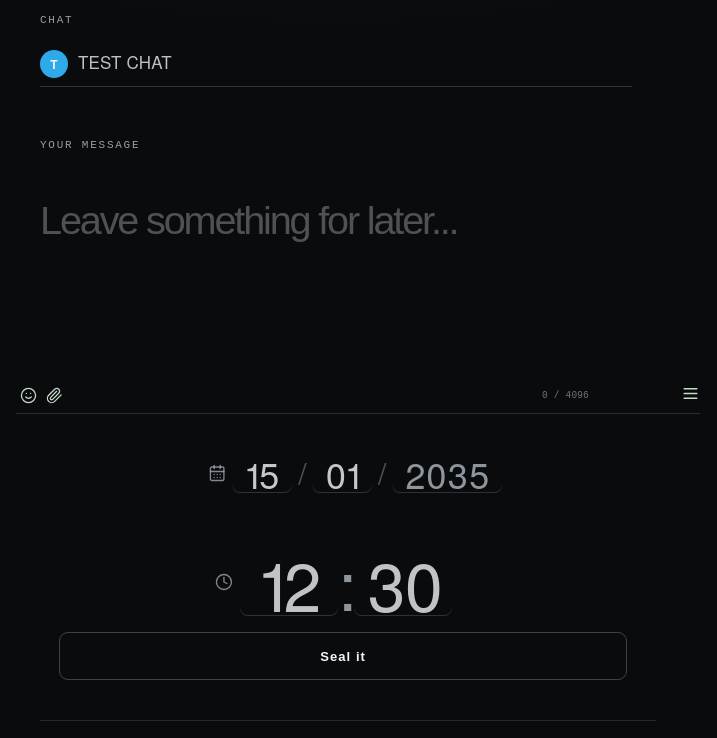
Test case: SchedulePage production composer › selects Saved Messages immediately when reminder mode is enabled
Click the button with class "message-send-button": (690, 393) x1=680 y1=383 x2=700 y2=403
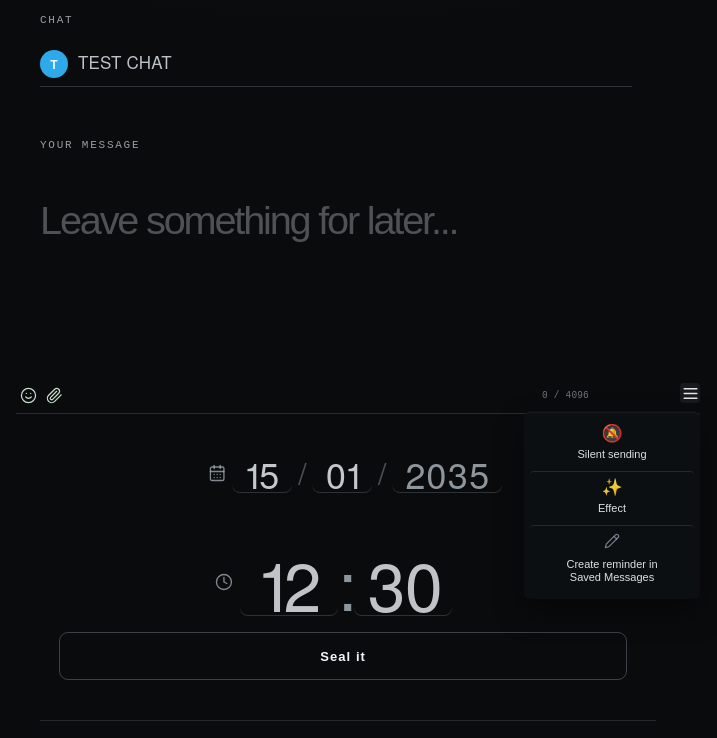
Click the menu item "Create reminder in Saved Messages": (612, 559) x1=530 y1=525 x2=694 y2=593
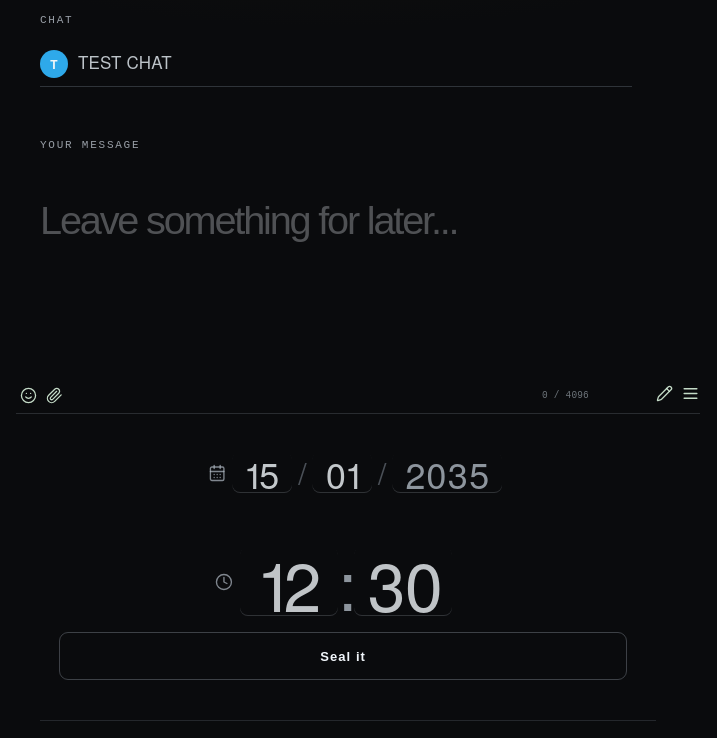
Check: the picture with class "message-reminder-indicator" is shown, box x1=654 y1=383 x2=674 y2=403
